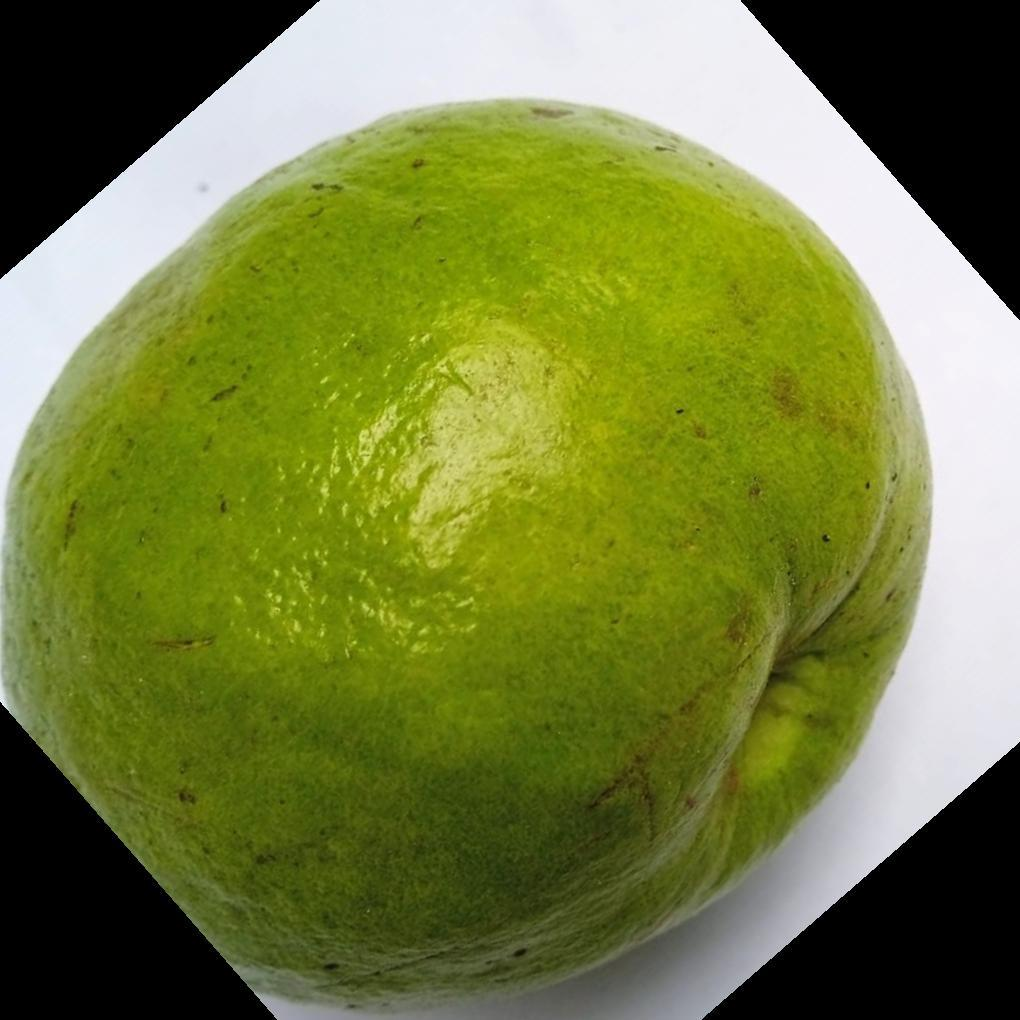FreshGuava: (0, 98, 934, 1012)
